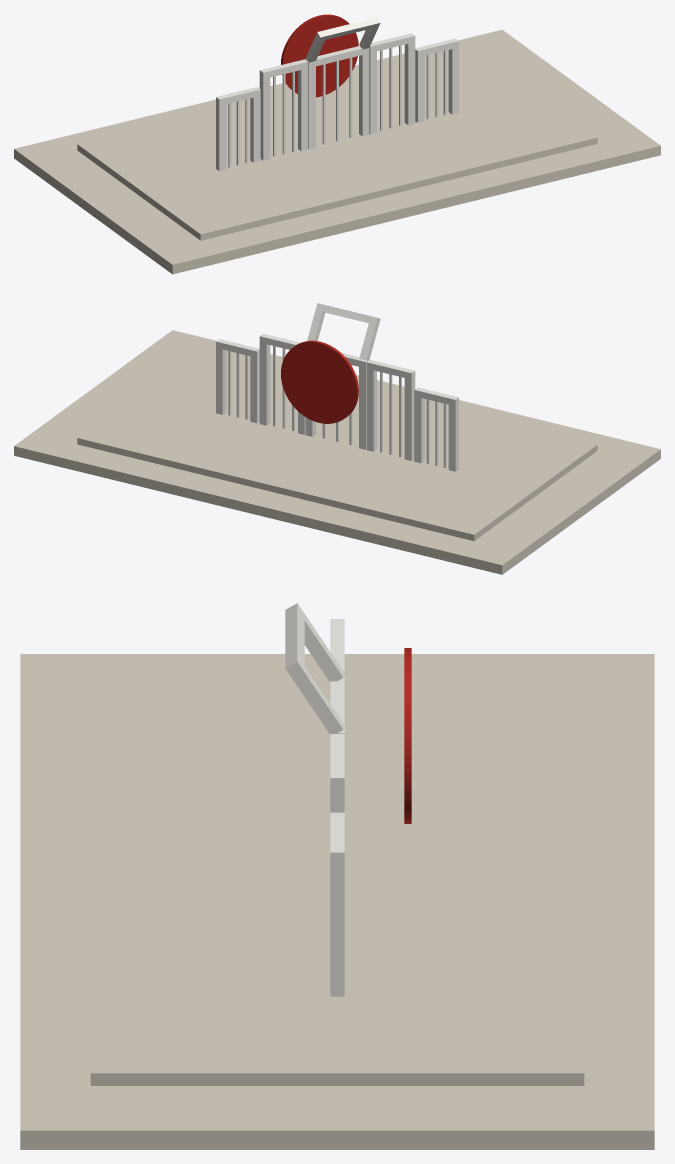
File: shaheed-minar.glb
3 renders of one model, top to bottom at view 1: azimuth 30°, elevation 25°; view 2: azimuth 150°, elevation 25°; view 3: azimuth 270°, elevation 25°, orthographic. The views are drawn at different scales.
Parts seen in each view (by area): view 1: shaheed-minar; view 2: shaheed-minar; view 3: shaheed-minar.
Part boxes in pixels (x1=…): shaheed-minar: x1=14, y1=14, x2=660, y2=274; shaheed-minar: x1=14, y1=303, x2=660, y2=574; shaheed-minar: x1=20, y1=603, x2=654, y2=1149.
Size of the model in its own units: 64 by 17.47 by 36.
